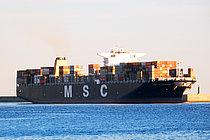Ship: (12, 45, 207, 106)
